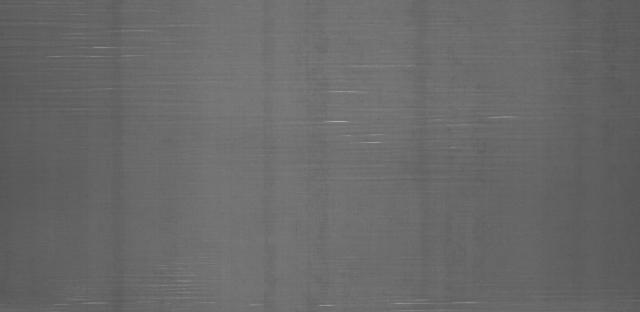waist_folding: (23, 17, 584, 230)
